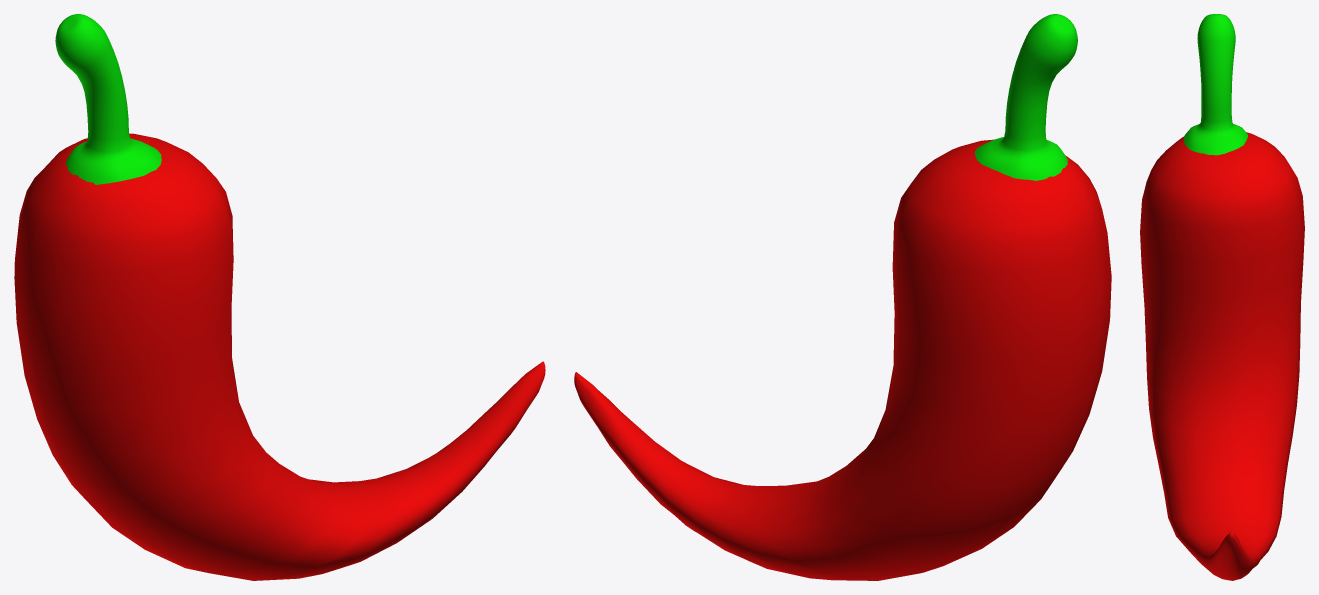
The model's file is chilli.fbx.
3 renders of one model, left to right at view 1: azimuth 30°, elevation 25°; view 2: azimuth 150°, elevation 25°; view 3: azimuth 270°, elevation 25°, orthographic. The views are drawn at different scales.
Visible parts, largest first — view 1: chilli; view 2: chilli; view 3: chilli.
Part boxes in pixels (bbox=[...]): chilli: bbox=[14, 14, 545, 580]; chilli: bbox=[574, 14, 1111, 580]; chilli: bbox=[1140, 14, 1304, 580].
Size of the model in its own units: 7.81 by 8.82 by 2.89.
